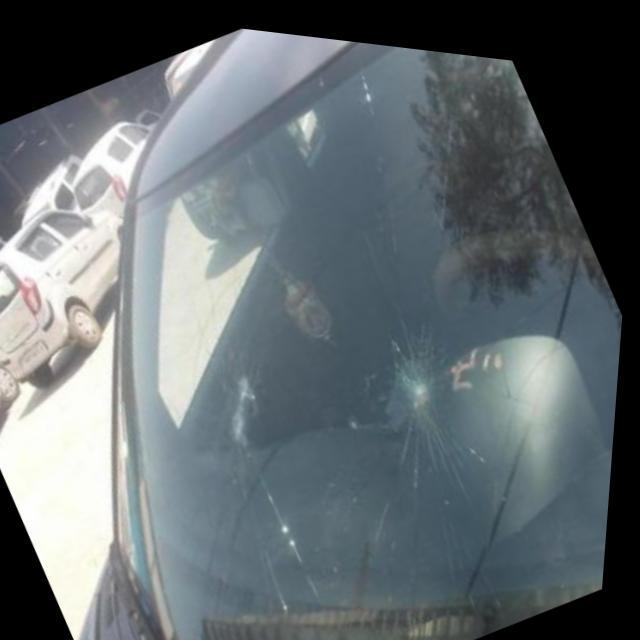glass shatter: (359, 298, 498, 488), (228, 355, 269, 444)
